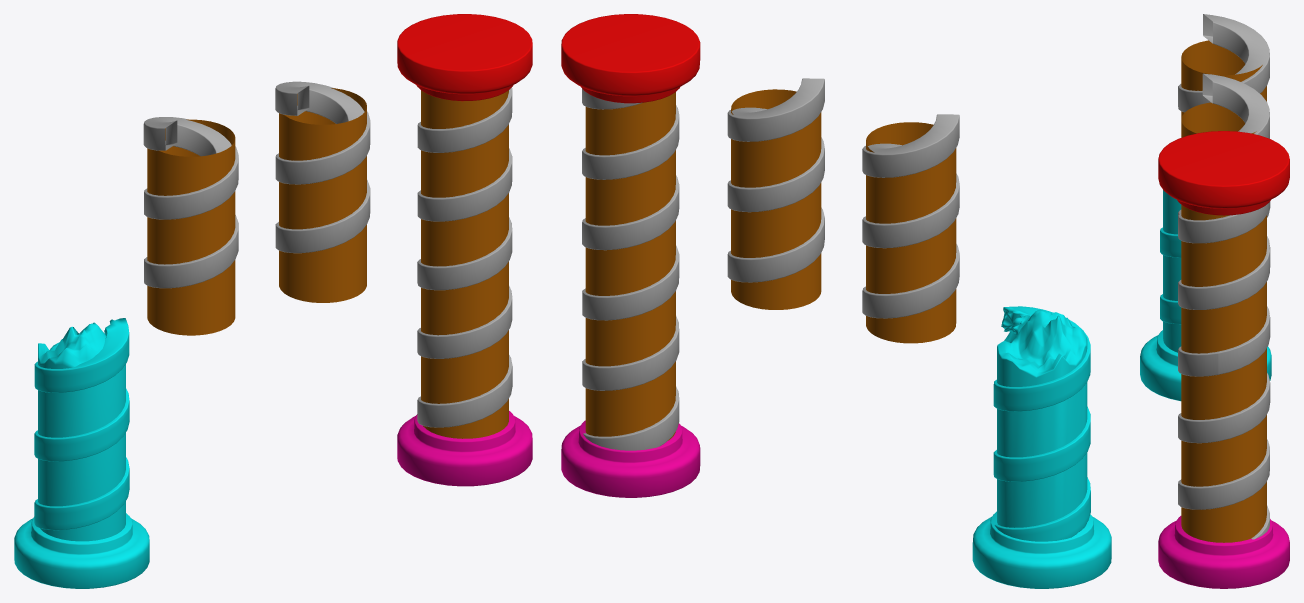
Rendered from Pillars.fbx.
The picture shows the model from 3 angles, left to right: view 1: azimuth 30°, elevation 25°; view 2: azimuth 150°, elevation 25°; view 3: azimuth 270°, elevation 25°; orthographic projection. The views are drawn at different scales.
Parts seen in each view (by area): view 1: WoodModPillBroken, WoodModPillTop, WoodModPillBottom, WoodModPillSingleA, WoodModPillSingleB; view 2: WoodModPillBroken, WoodModPillTop, WoodModPillBottom, WoodModPillSingleA, WoodModPillSingleB; view 3: WoodModPillTop, WoodModPillBottom, WoodModPillSingleB, WoodModPillBroken, WoodModPillSingleA.
Part boxes in pixels (<box>): WoodModPillBroken: <box>14,318,149,588</box>; WoodModPillTop: <box>397,14,532,266</box>; WoodModPillBottom: <box>397,217,532,486</box>; WoodModPillSingleA: <box>275,81,370,302</box>; WoodModPillSingleB: <box>143,117,238,335</box>; WoodModPillBroken: <box>972,306,1111,588</box>; WoodModPillTop: <box>561,14,700,274</box>; WoodModPillBottom: <box>561,245,700,497</box>; WoodModPillSingleA: <box>727,78,824,309</box>; WoodModPillSingleB: <box>862,114,959,343</box>; WoodModPillTop: <box>1158,131,1289,377</box>; WoodModPillBottom: <box>1158,346,1289,588</box>; WoodModPillSingleB: <box>1178,14,1270,217</box>; WoodModPillBroken: <box>1140,190,1271,401</box>; WoodModPillSingleA: <box>1178,73,1270,267</box>.
Size of the model in its own units: 832 by 219 by 649.
